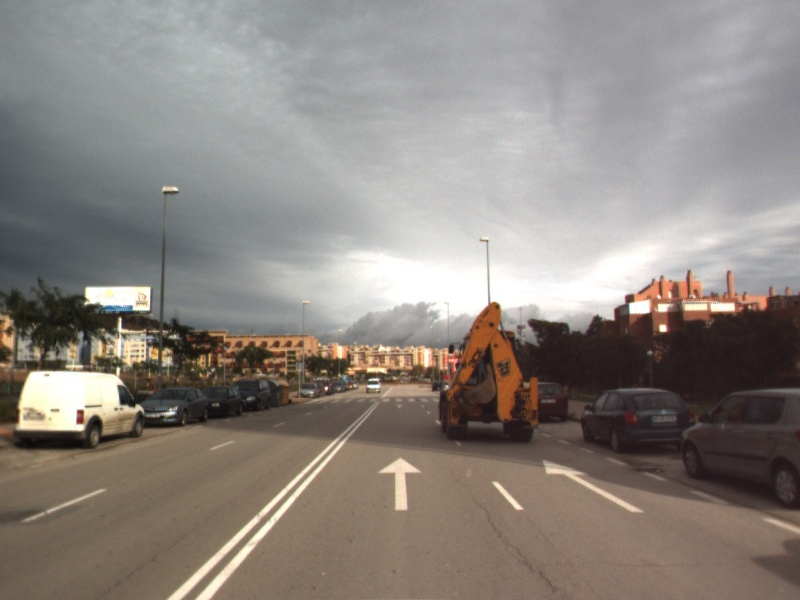STRAIGHT: (541, 457, 647, 515), (376, 455, 424, 512)
